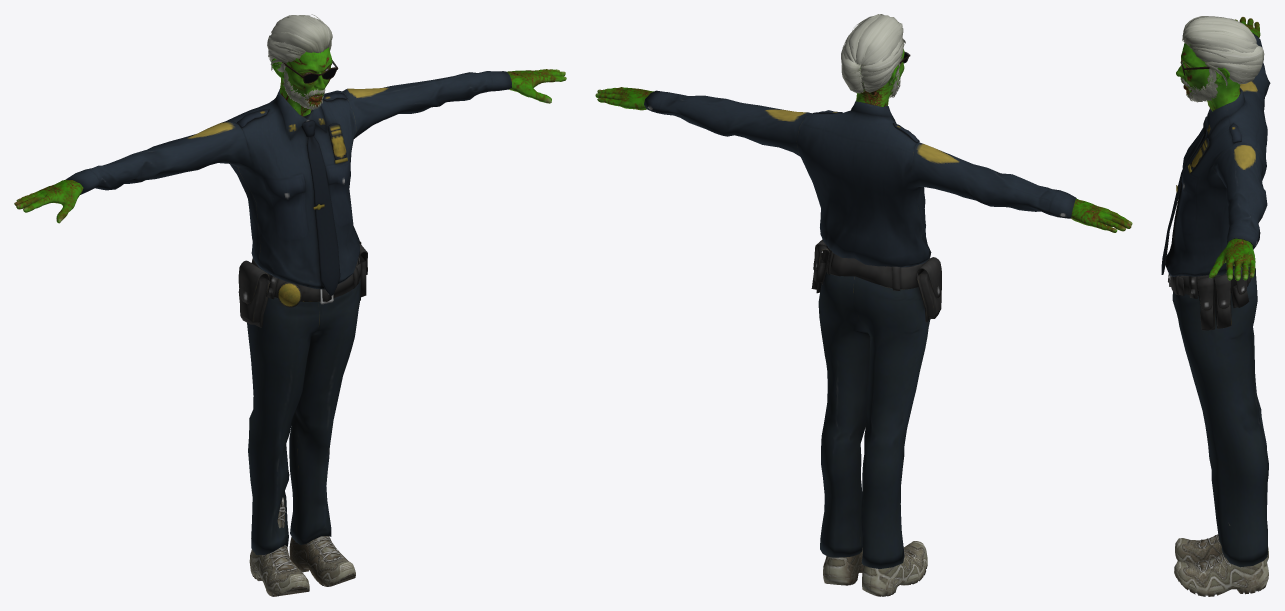
The model's file is Old Man Police Zombie.obj.
3 views of the same model, side by side, from view 1: azimuth 30°, elevation 25°; view 2: azimuth 150°, elevation 25°; view 3: azimuth 270°, elevation 25° (orthographic).
Visible parts, largest first — view 1: Tops, Bottoms, Body, Shoes, Hair; view 2: Bottoms, Tops, Hair, Shoes, Body; view 3: Bottoms, Tops, Hair, Shoes, Body, Beards.
Part boxes in pixels (x1,y1,x2,y2): Tops: [66, 71, 511, 295]; Bottoms: [238, 241, 367, 554]; Body: [14, 47, 566, 223]; Shoes: [249, 497, 355, 596]; Hair: [267, 14, 332, 75]; Bottoms: [811, 239, 941, 568]; Tops: [644, 90, 1076, 267]; Hair: [841, 14, 905, 93]; Shoes: [823, 541, 927, 596]; Body: [595, 49, 1132, 232]; Bottoms: [1168, 266, 1268, 567]; Tops: [1161, 33, 1270, 276]; Hair: [1182, 16, 1264, 87]; Shoes: [1174, 522, 1268, 596]; Body: [1176, 17, 1260, 280]; Beards: [1186, 74, 1217, 102].
Bounding box in the file's own units: 187 × 185 × 32.59.
Materials: 1 (1 with a texture image).
